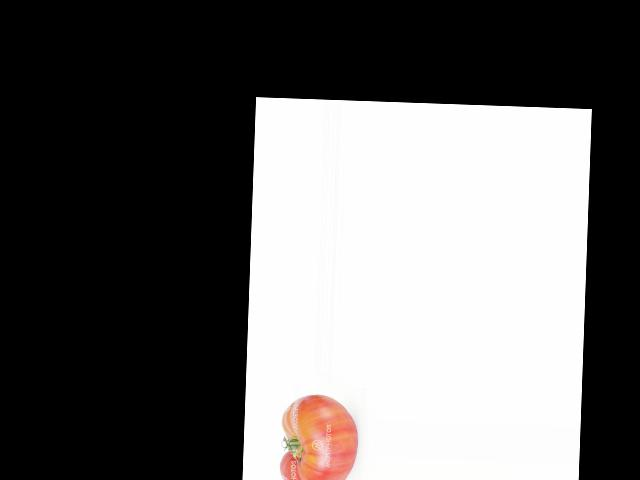tomato: (279, 393, 359, 480)
